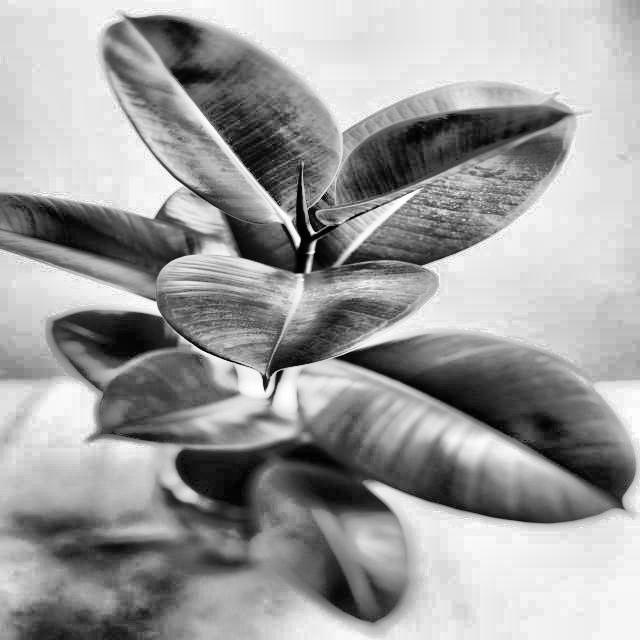plants: (25, 48, 556, 610)
